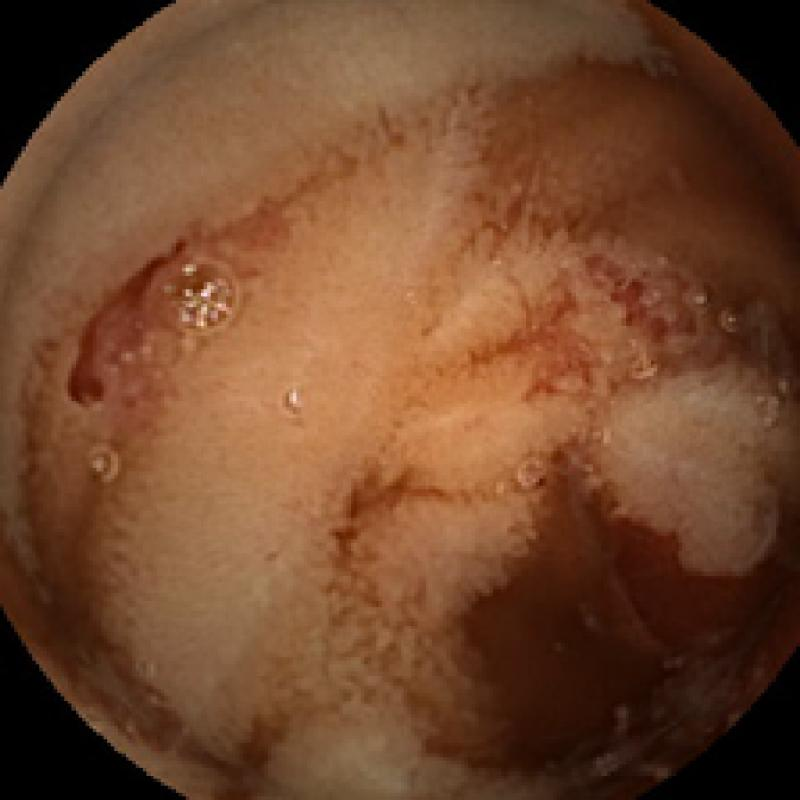bleeding: (556, 494, 797, 767), (50, 236, 200, 418), (566, 254, 697, 358)
